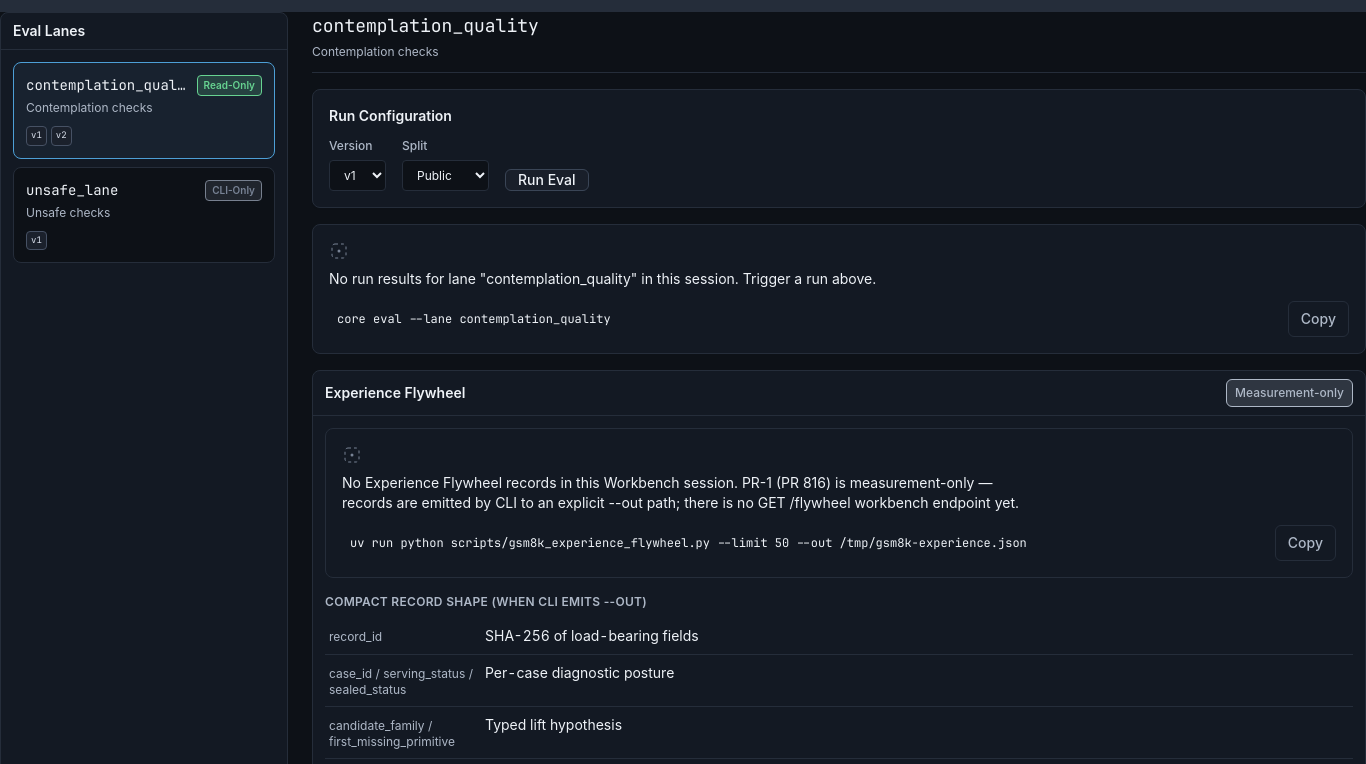
Test: W-030 Component Tests › EvalsRoute › derives a passed status from metrics when the top-level status is nullable
The width and height of the screenshot is (1366, 764).
Click the button with test id "run-button".
click(547, 180)  # box [505,169,588,191]
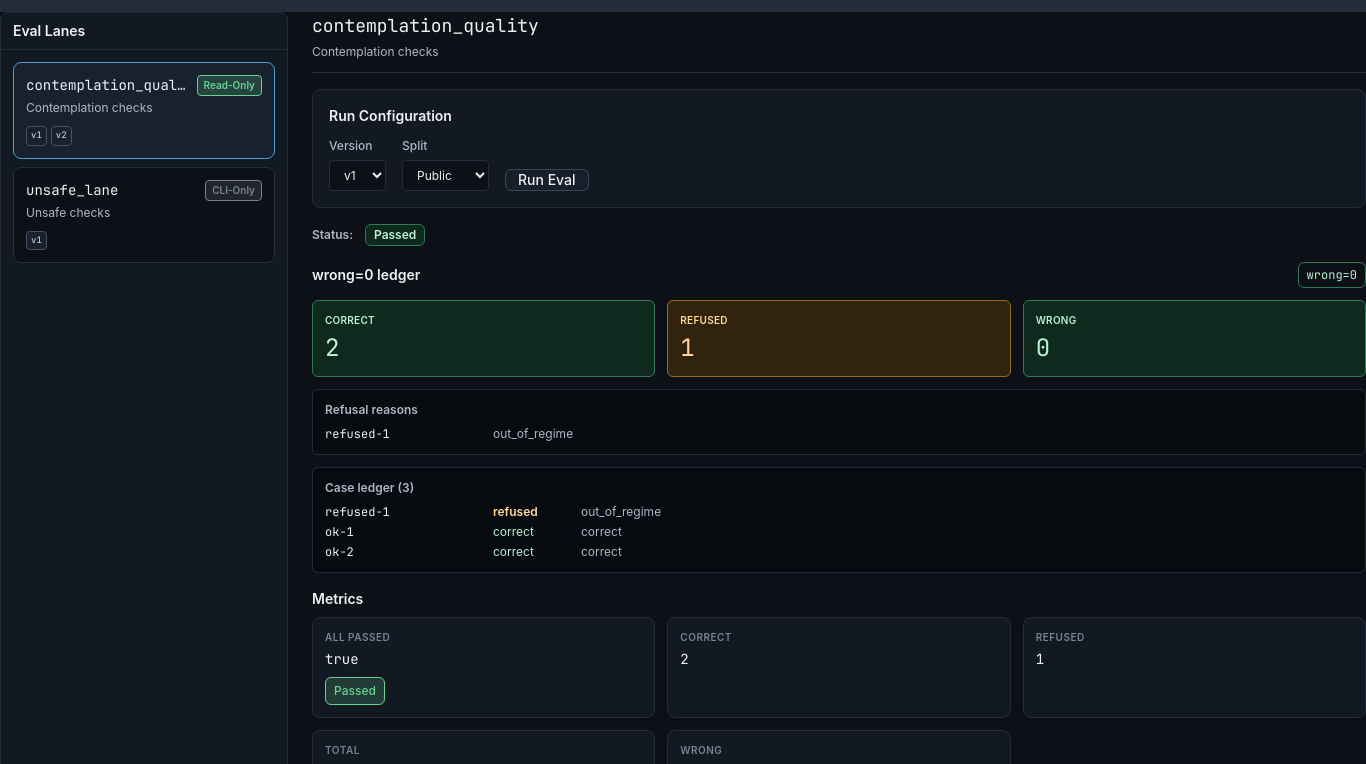
Now the text "Passed" is shown, box [365,224,425,246]
Now the element with test id "ledger-wrong" shows "0", box [1036,332,1050,363]
